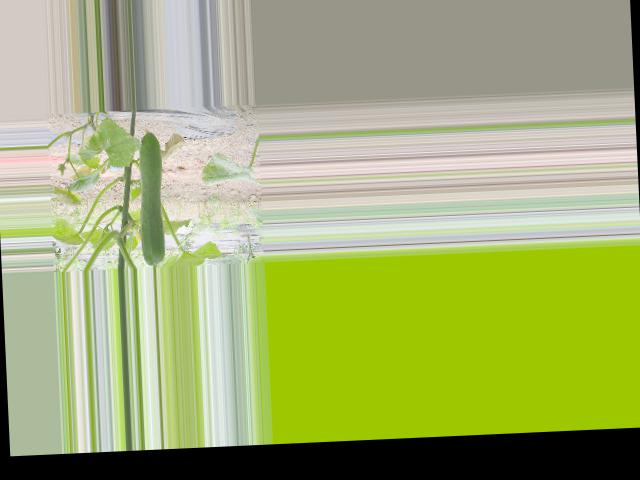cucumber: (136, 127, 167, 265)
